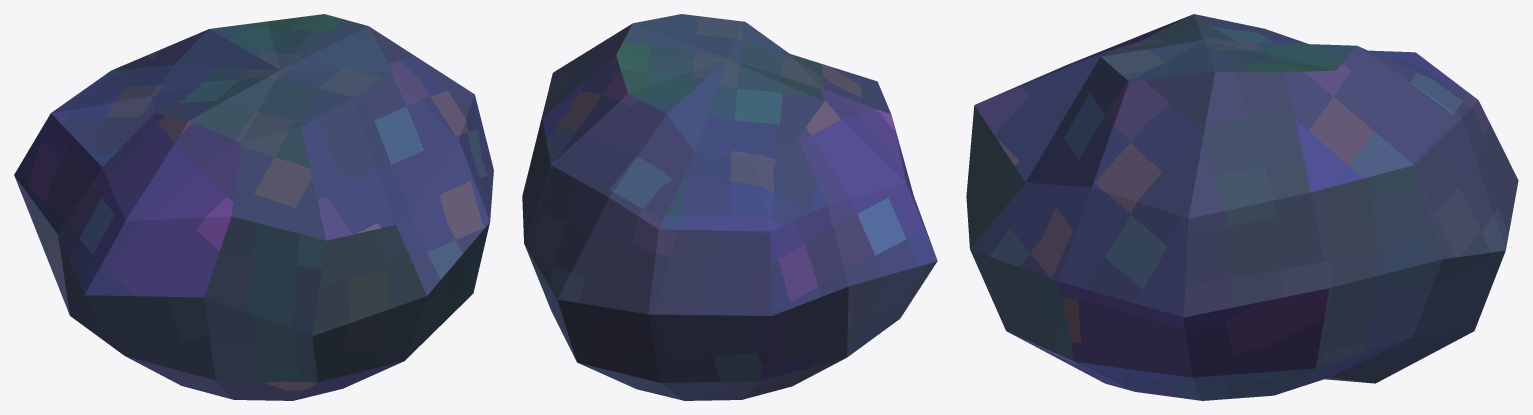
Rendered from Rocks.obj.
The picture shows the model from 3 angles, left to right: view 1: azimuth 30°, elevation 25°; view 2: azimuth 150°, elevation 25°; view 3: azimuth 270°, elevation 25°; orthographic projection. The views are drawn at different scales.
Parts seen in each view (by area): view 1: sphere; view 2: sphere; view 3: sphere.
Part boxes in pixels (<box>): sphere: <box>14,14,493,400</box>; sphere: <box>522,14,937,400</box>; sphere: <box>966,14,1518,400</box>.
Bounding box in the file's own units: 0.6278 × 0.4511 × 0.6395.
Materials: 1 (1 with a texture image).
